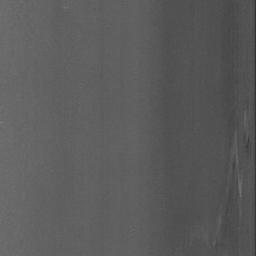Silk spot: (238, 90, 256, 256), (221, 154, 239, 238), (225, 109, 239, 152), (209, 239, 224, 252)
